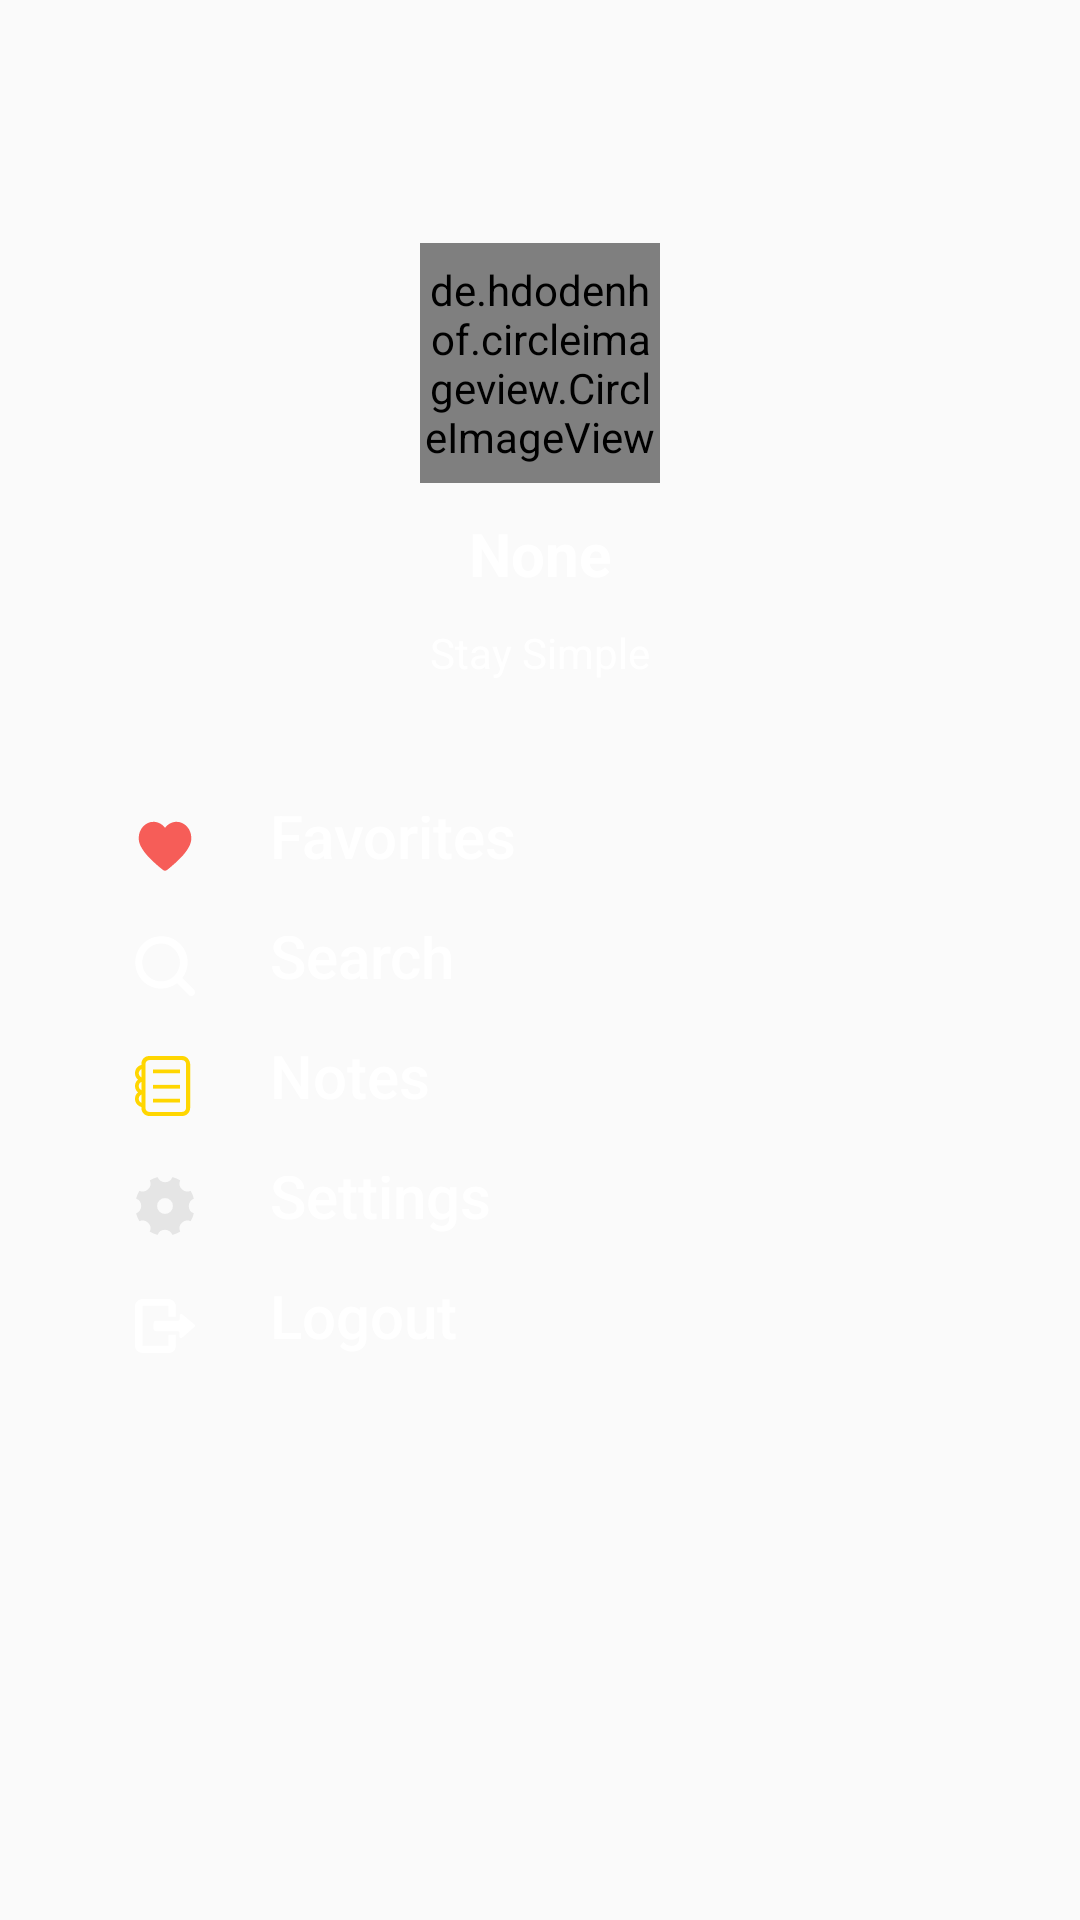

Named icons in this screenshot (1080x1920) and their centers, [x,y]:
love: [165,846]
